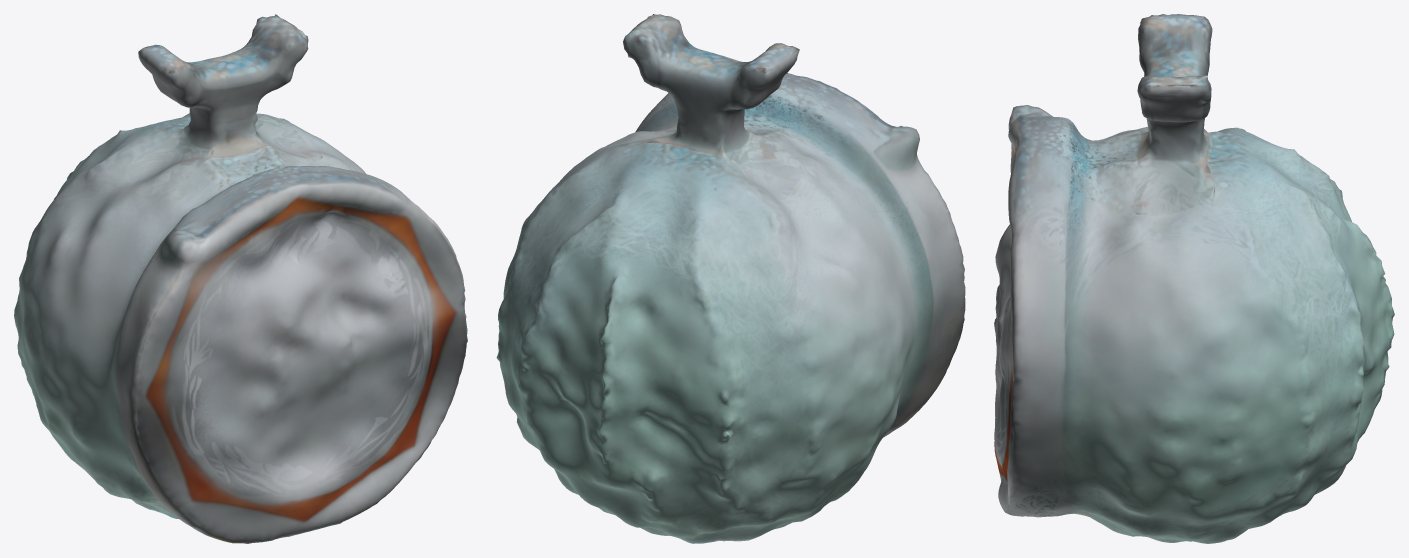
The picture shows the model from 3 angles, left to right: view 1: azimuth 30°, elevation 25°; view 2: azimuth 150°, elevation 25°; view 3: azimuth 270°, elevation 25°; orthographic projection. The views are drawn at different scales.
Size of the model in its own units: 0.9731 by 1.2 by 0.9292.
Materials: 1 (1 with a texture image).
